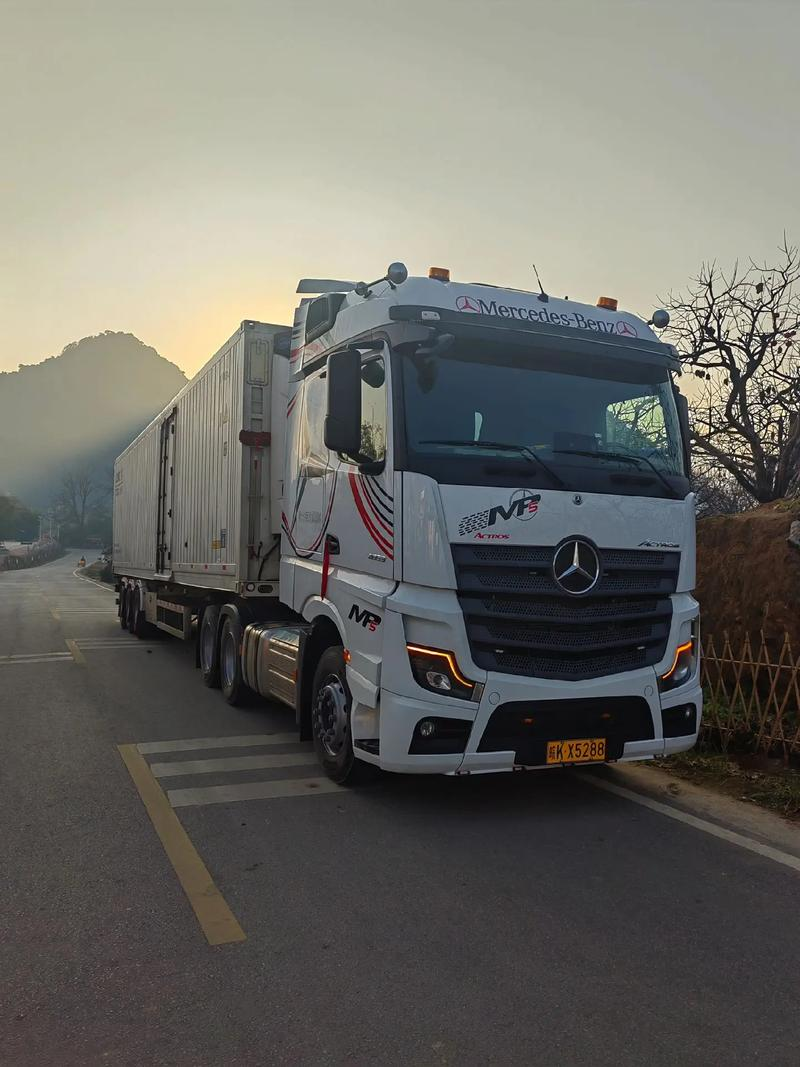卡车: (86, 259, 716, 814)
